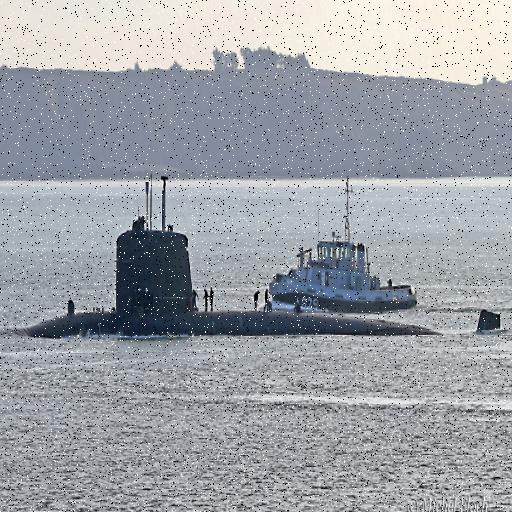submarine: (19, 178, 503, 330)
